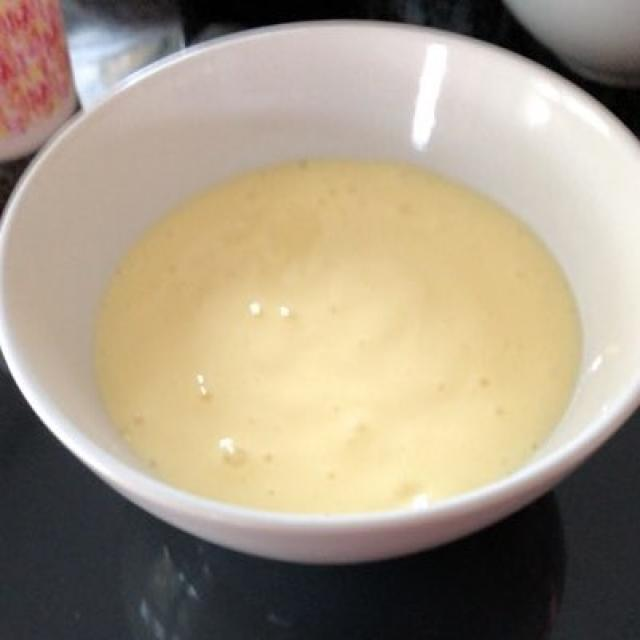custard-dessert: (98, 162, 571, 503)
